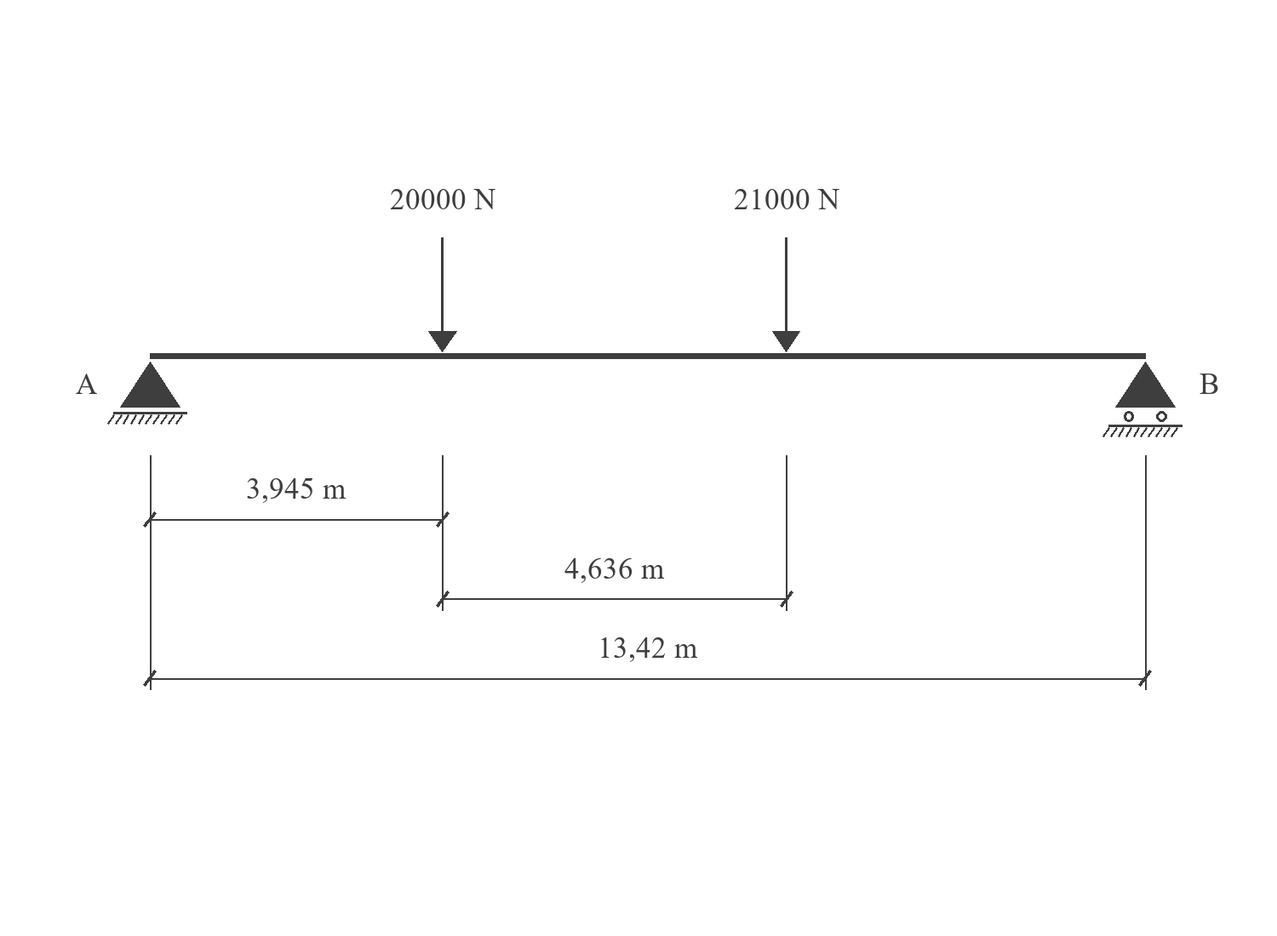pin_support: (107, 362, 187, 425)
point_load: (428, 237, 457, 352), (772, 237, 800, 352)
roller_support: (1102, 362, 1183, 437)
